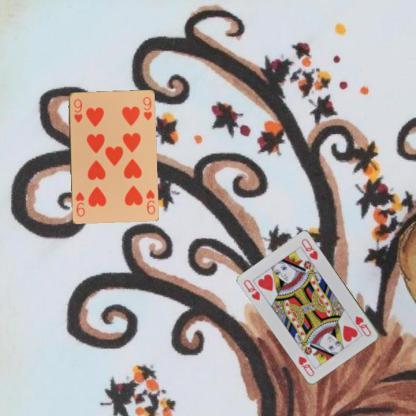9h: (143, 187, 156, 216), (71, 96, 83, 124)
Qh: (241, 276, 262, 301), (352, 313, 372, 338)
